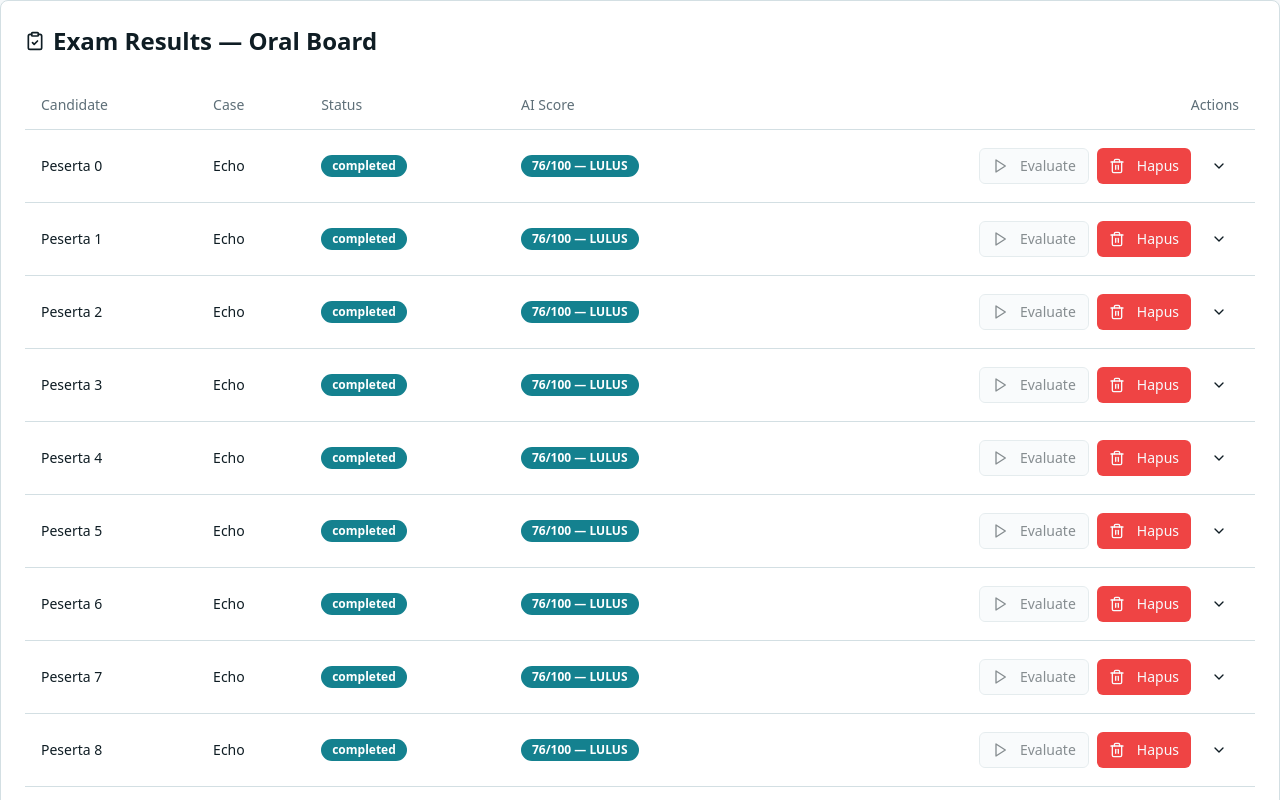
result list memory › fetches 20 summaries filtered by exam mode and loads full data only on expansion
Click the text "Peserta 0" at (72, 165), box 25,129 -> 197,202
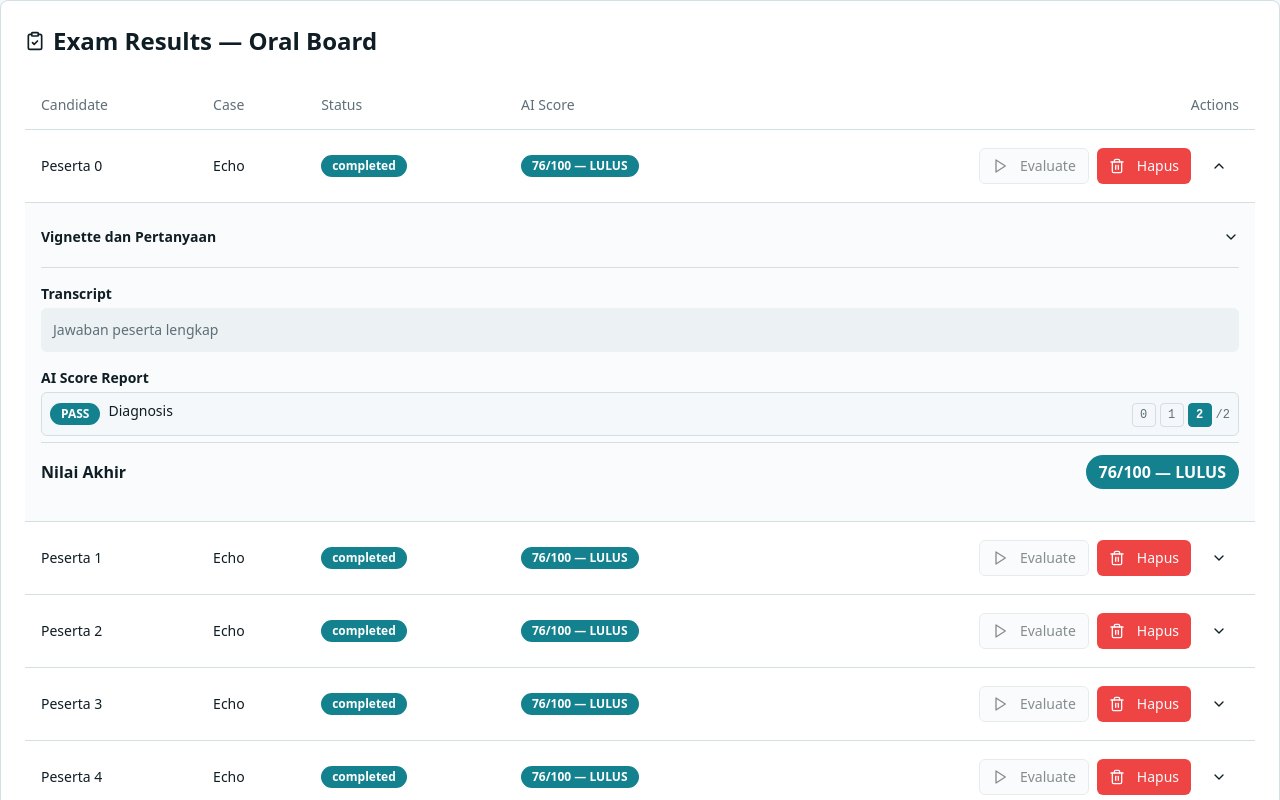
Expected: the text "Jawaban peserta lengkap" is shown, 41,308 -> 1239,352
Click the text "Peserta 0" at (72, 165), box 25,129 -> 197,202
(page scrolled)
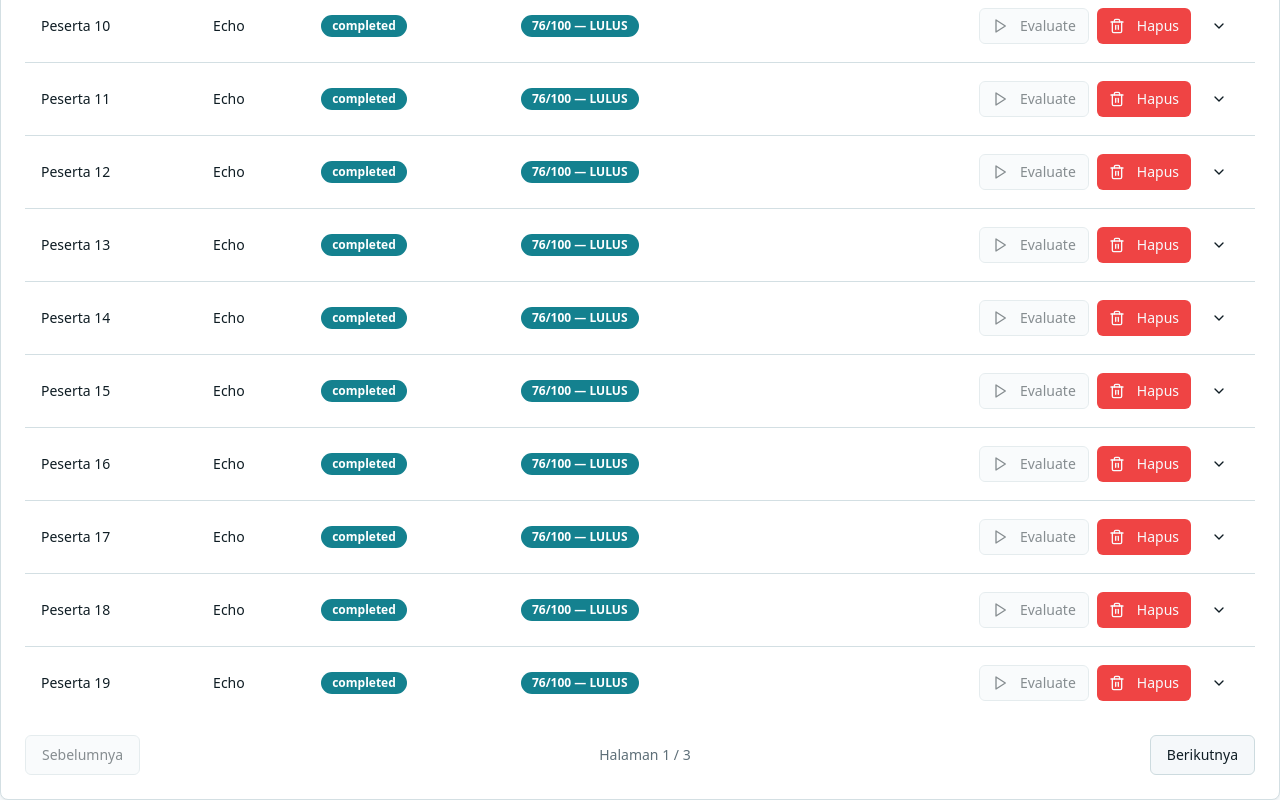
Click the button "Berikutnya" at (1202, 754), box 1150,734 -> 1255,774
(page scrolled)
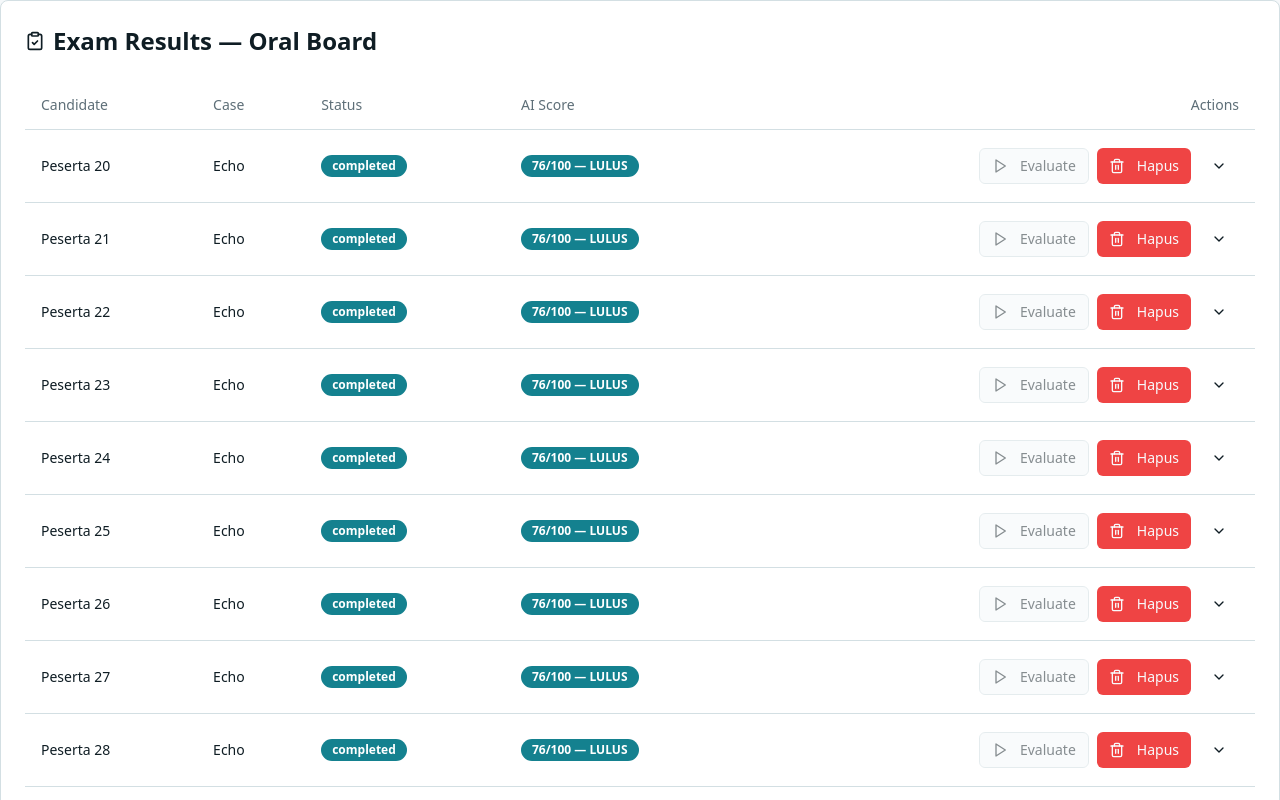
Expected: the text "Peserta 20" is shown, 25,129 -> 197,202
